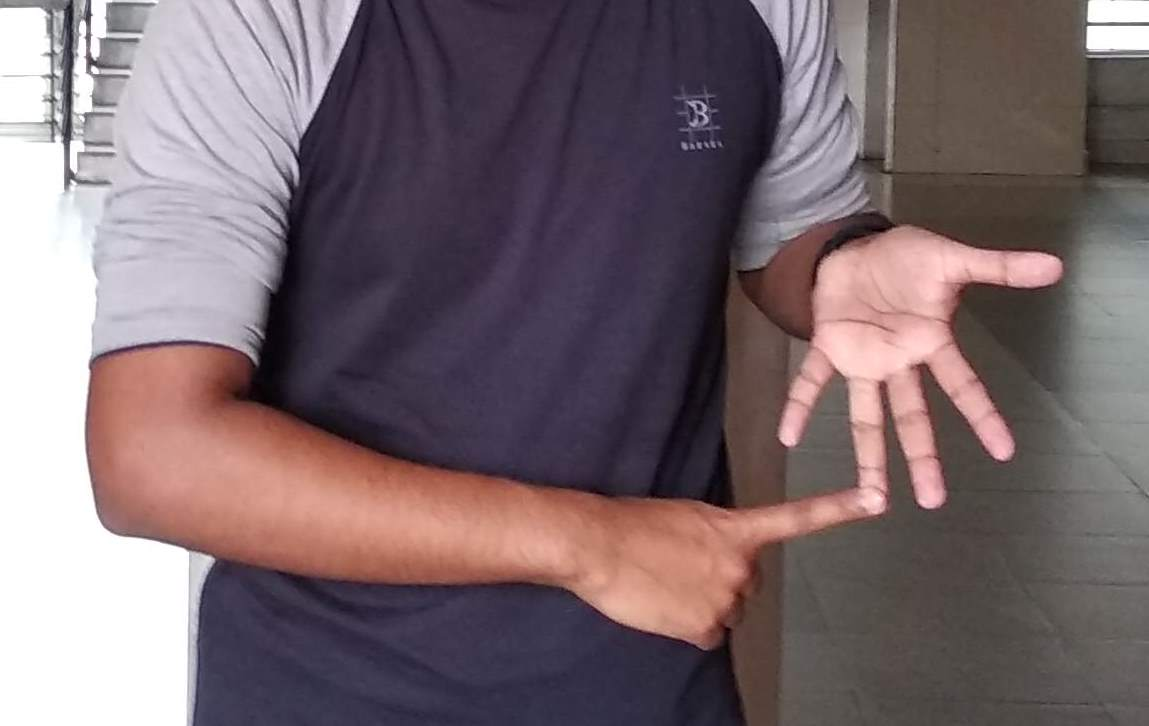e: (727, 374, 1043, 575)
